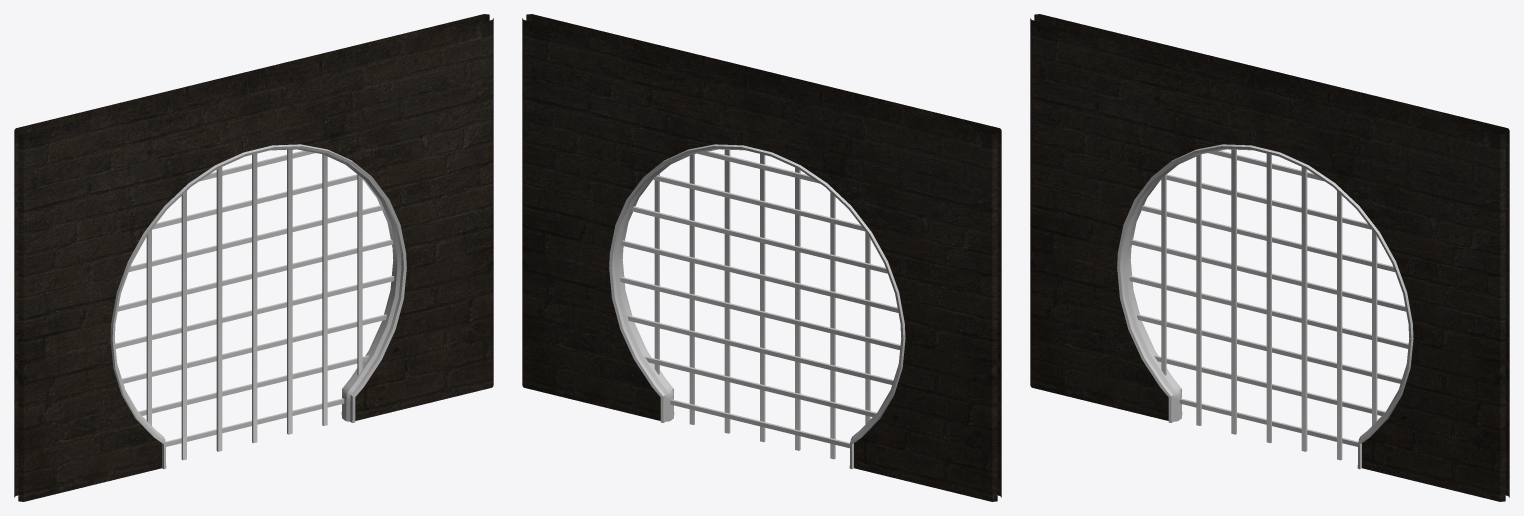
The model's file is wall_1_tunnel_hole_2.obj.
3 views of the same model, side by side, from view 1: azimuth 30°, elevation 25°; view 2: azimuth 150°, elevation 25°; view 3: azimuth 330°, elevation 25° (orthographic).
Parts seen in each view (by area): view 1: wall_1_tunnel_hole_2; view 2: wall_1_tunnel_hole_2; view 3: wall_1_tunnel_hole_2.
Boxes of the visible parts, x1,y1,x2,y2 form: wall_1_tunnel_hole_2: [14, 14, 493, 501]; wall_1_tunnel_hole_2: [522, 14, 1001, 501]; wall_1_tunnel_hole_2: [1030, 14, 1509, 501].
Bounding box in the file's own units: 4.06 × 3 × 0.1697.
